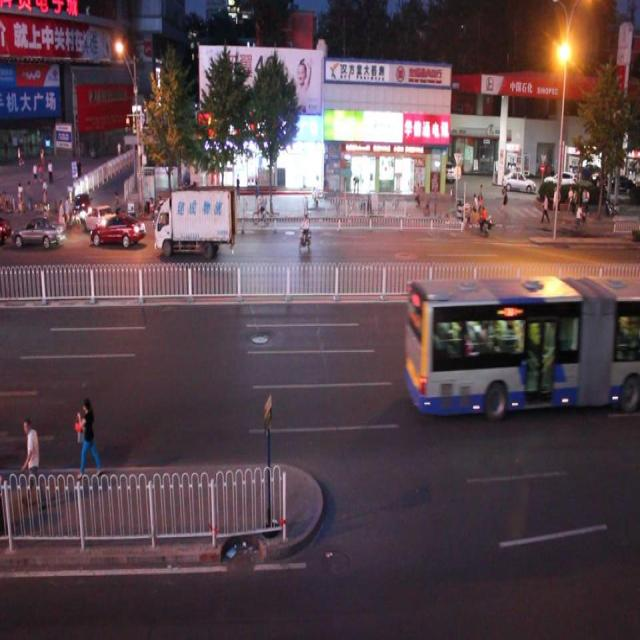bus: (154, 188, 235, 258)
car: (166, 185, 223, 232), (11, 202, 65, 241), (89, 210, 146, 246), (84, 202, 116, 233), (72, 190, 93, 222)
van: (403, 276, 640, 408)
